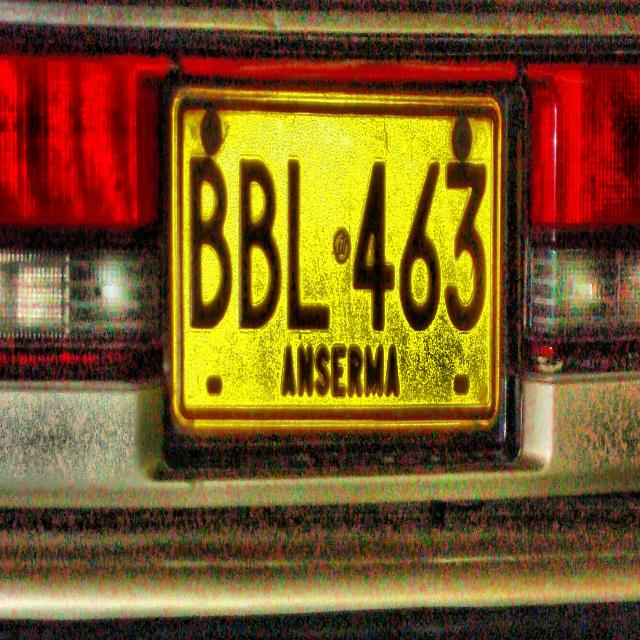plate: (174, 90, 499, 424)
